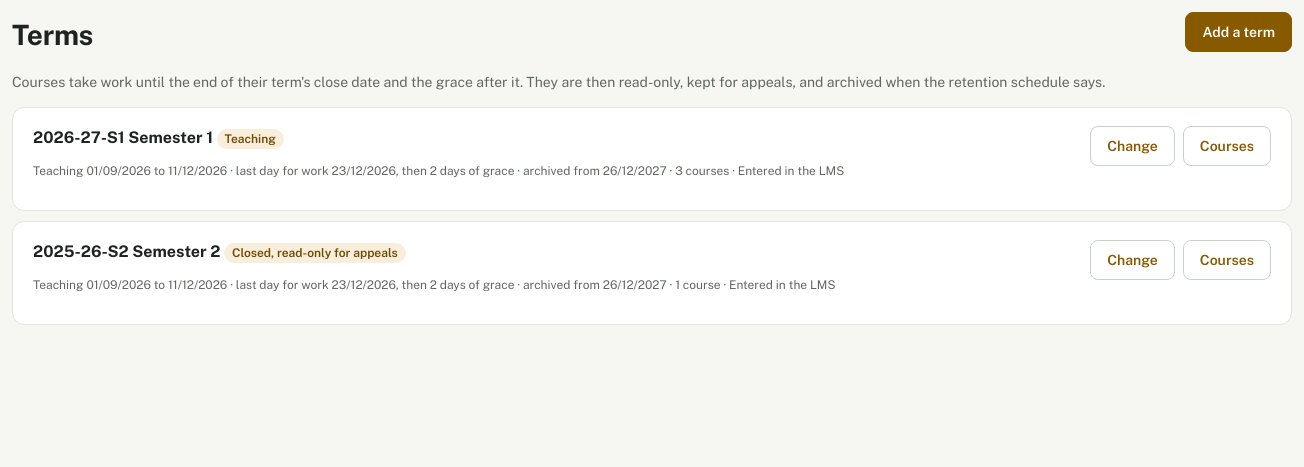
Test: the term calendar (item 7.12) › lists terms with their dates and phase, and a term's courses with their archives
expect the text "Teaching" is shown: met, box [217,129,284,149]
expect the text "archived from 26/12/2027 · 3 courses" is shown: met, box [33,162,844,180]
Click the button with aria-label "Show the courses of 2025-26-S2": (1227, 260) [1183,240,1271,280]
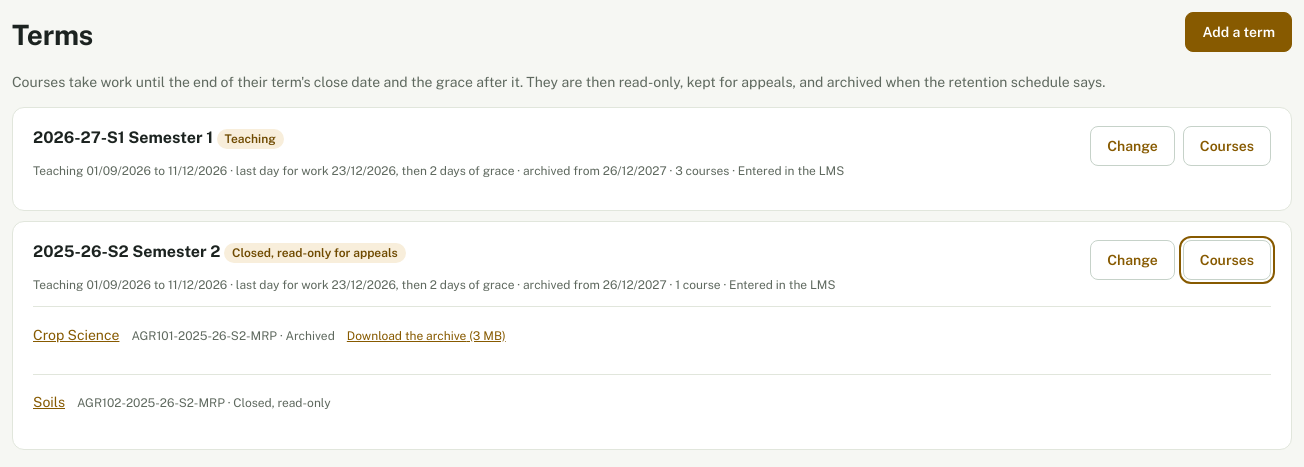
expect the text "AGR102-2025-26-S2-MRP · Closed, read-only" is shown: met, box [77,394,331,412]
Click the button with aria-label "Hide the courses of 2025-26-S2": (1227, 260) [1183,240,1271,280]
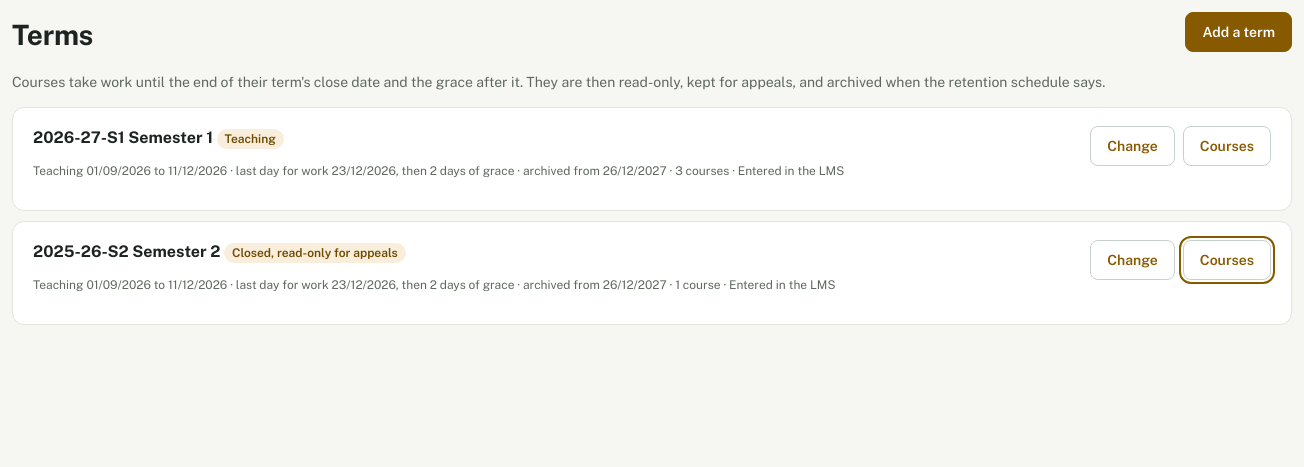
expect the link "Crop Science" is gone: met
